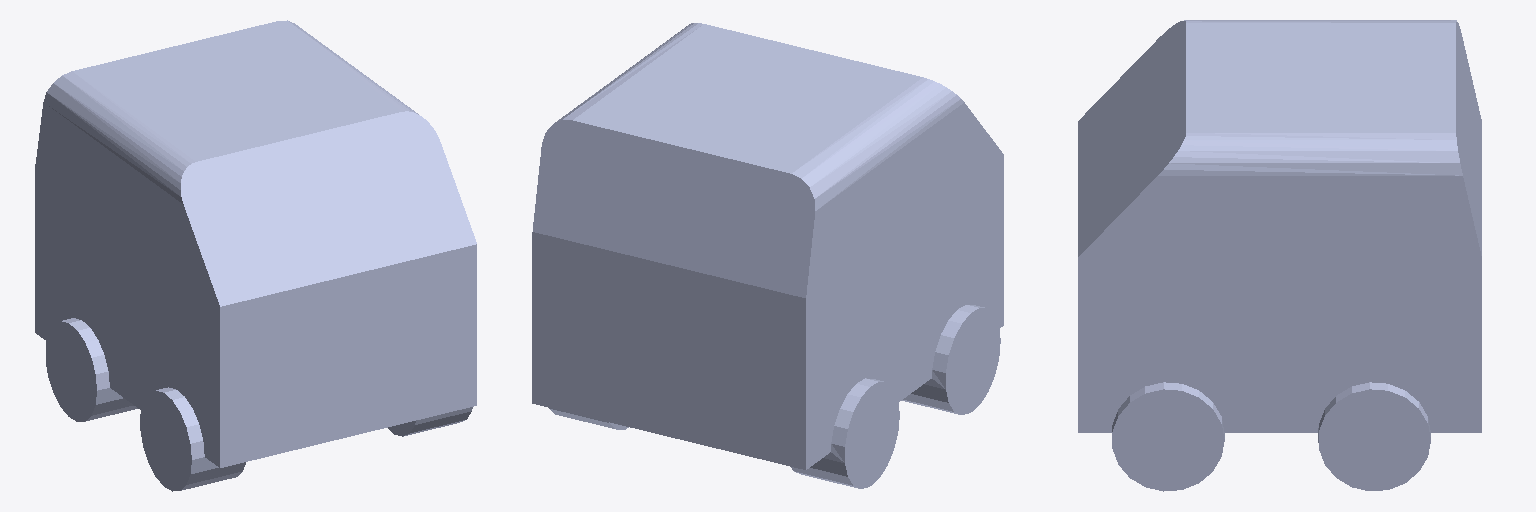
URDF robot description (Assem1_car):
<?xml version="1.0" encoding="utf-8"?>
<!-- This URDF was automatically created by SolidWorks to URDF Exporter! Originally created by [author] ([email redacted]) 
     Commit Version: 1.6.0-4-g7f85cfe  Build Version: 1.6.7995.38578
     For more information, please see http://wiki.ros.org/sw_urdf_exporter -->
<robot
  name="Assem1_car">
  <link
    name="base_link">
    <inertial>
      <origin
        xyz="2.95927006135576E-06 0.00882340028254072 -0.000364601323793866"
        rpy="0 0 0" />
      <mass
        value="0.00955918486061169" />
      <inertia
        ixx="7.70289678978991E-07"
        ixy="2.51770146190825E-10"
        ixz="-2.56806026500112E-11"
        iyy="7.92981801927202E-07"
        iyz="3.19285955668006E-08"
        izz="6.54426065694542E-07" />
    </inertial>
    <visual>
      <origin
        xyz="0 0 0"
        rpy="0 0 0" />
      <geometry>
        <mesh
          filename="package://open_manipulator_controllers/include/meshes/base_link.STL" />
      </geometry>
      <material
        name="">
        <color
          rgba="0.792156862745098 0.819607843137255 0.933333333333333 1" />
      </material>
    </visual>
    <collision>
      <origin
        xyz="0 0 0"
        rpy="0 0 0" />
      <geometry>
        <mesh
          filename="package://open_manipulator_controllers/include/meshes/base_link.STL" />
      </geometry>
    </collision>
  </link>
</robot>

--- What the picture shows (computed from the rendered views, not written in the file) ---
Views: 3 orthographic renders of the robot side by side, from view 1: azimuth 30°, elevation 25°; view 2: azimuth 150°, elevation 25°; view 3: azimuth 270°, elevation 25°.
Robot: Assem1_car — 1 links, 0 joints (none); root link base_link; default pose: every joint at zero.
Links seen in each view (by area): view 1: base_link; view 2: base_link; view 3: base_link.
Boxes of the visible links, left/top/right/bottom form: base_link: left=35, top=20, right=476, bottom=491; base_link: left=532, top=23, right=1003, bottom=488; base_link: left=1078, top=20, right=1481, bottom=491.
Bounding box of the posed robot: 0.022 × 0.025 × 0.0231 m (x, y, z).
1 mesh visuals loaded from 1 distinct referenced files (1 binary STL).